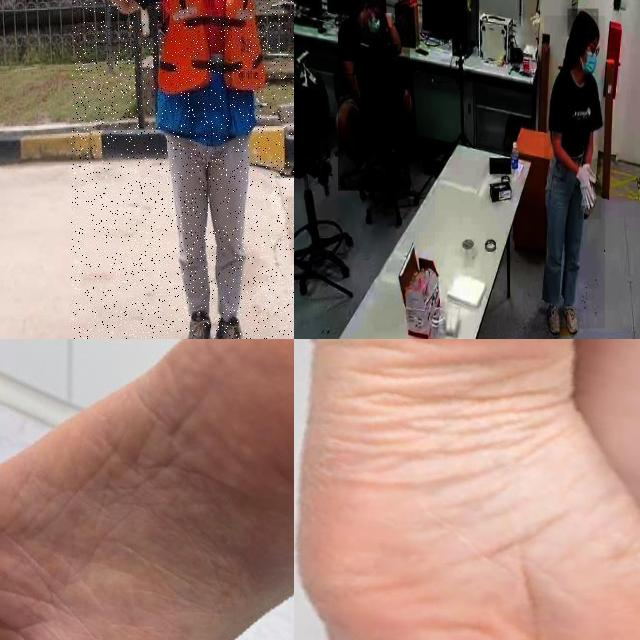Barefoots: (298, 339, 640, 640), (0, 339, 294, 640)
boots: (180, 305, 215, 339), (214, 314, 253, 339)
face_mask: (361, 0, 382, 39), (575, 45, 598, 77)
hand_glove: (578, 159, 602, 220)
hand_noglove: (382, 13, 392, 28)
head_nohelmet: (567, 8, 599, 38)
person: (71, 0, 294, 339), (544, 16, 606, 330), (337, 0, 410, 191)
shoes: (562, 296, 581, 339), (544, 295, 561, 338)
vest: (153, 0, 268, 141)
